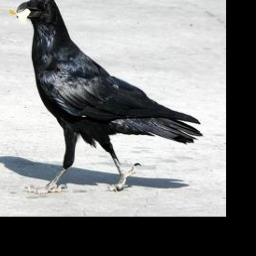Crow: (11, 0, 205, 196)
